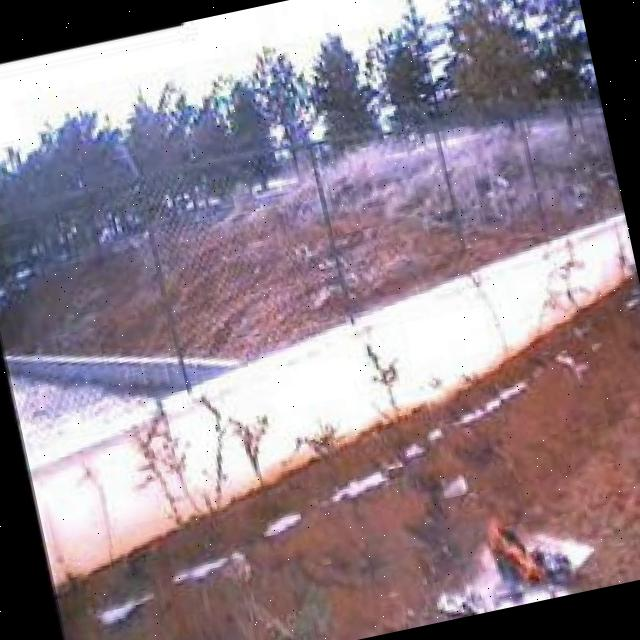fire: (472, 496, 568, 600)
